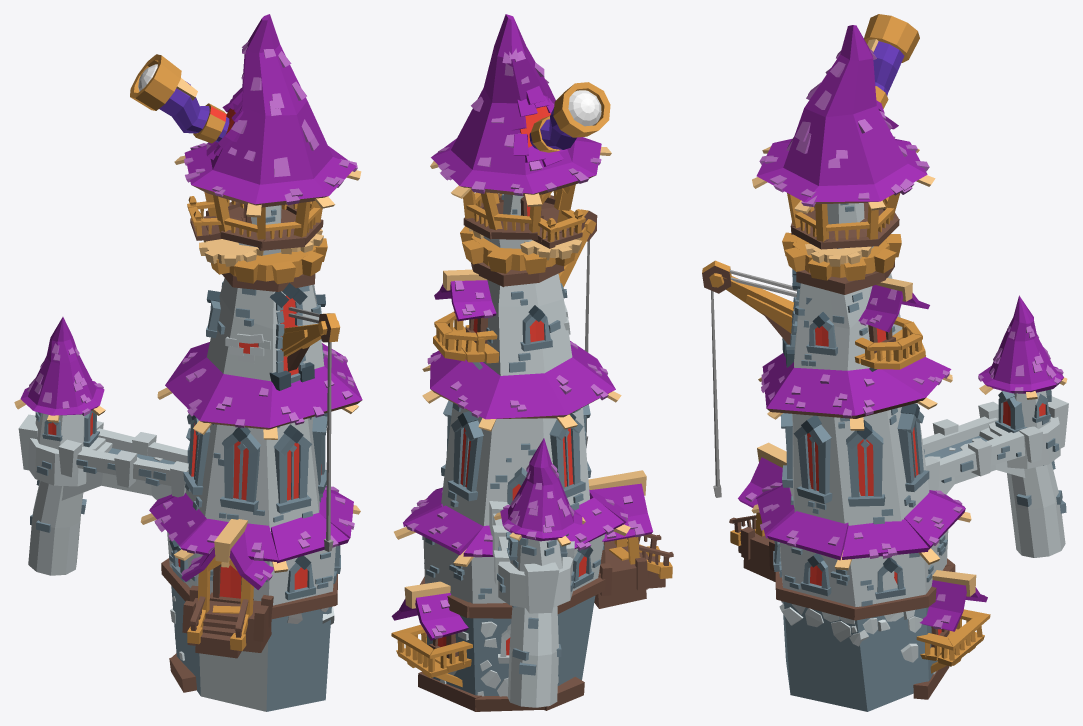
Rendered from Wizrd Tower.glb.
The picture shows the model from 3 angles, left to right: view 1: azimuth 30°, elevation 25°; view 2: azimuth 150°, elevation 25°; view 3: azimuth 270°, elevation 25°; orthographic projection.
Parts seen in each view (by area): view 1: group521495168, group1530056699, group26607304, group1230563115, group1447656051, group1619270200, group1214025446, group1177017401, group915406373, group897295777, group542108436, group1419080965 (+20 smaller); view 2: group521495168, group1530056699, group26607304, group1214025446, group1619270200, group1230563115, group1447656051, group818003635, group1139100112, group458746419, group542108436, group524548519 (+22 smaller); view 3: group1530056699, group521495168, group26607304, group1214025446, group1619270200, group1447656051, group791884759, group1230563115, group583845613, group2108161499, group1698596083, group818003635 (+25 smaller).
Boxes of the visible parts, x1,y1,x2,y2 form: group521495168: [174, 14, 361, 255]; group1530056699: [167, 417, 335, 711]; group26607304: [165, 278, 362, 429]; group1230563115: [130, 54, 229, 143]; group1447656051: [199, 229, 327, 284]; group1619270200: [14, 317, 105, 422]; group1214025446: [28, 481, 83, 575]; group1177017401: [58, 439, 188, 497]; group915406373: [220, 427, 260, 512]; group897295777: [274, 424, 312, 512]; group542108436: [181, 519, 273, 589]; group1419080965: [270, 513, 349, 563]; group521495168: [430, 14, 611, 248]; group1530056699: [423, 403, 604, 695]; group26607304: [430, 273, 615, 419]; group1214025446: [507, 606, 558, 707]; group1619270200: [494, 438, 585, 546]; group1230563115: [529, 82, 610, 152]; group1447656051: [460, 226, 582, 274]; group818003635: [391, 581, 468, 640]; group1139100112: [447, 411, 483, 501]; group458746419: [433, 311, 499, 369]; group542108436: [588, 470, 652, 542]; group524548519: [434, 269, 496, 321]; group1530056699: [779, 403, 948, 711]; group521495168: [752, 25, 935, 248]; group26607304: [762, 273, 951, 418]; group1214025446: [1007, 462, 1065, 557]; group1619270200: [978, 295, 1067, 399]; group1447656051: [782, 232, 901, 281]; group791884759: [925, 426, 1042, 490]; group1230563115: [864, 14, 919, 108]; group583845613: [846, 420, 885, 506]; group2108161499: [793, 415, 832, 503]; group1698596083: [842, 519, 928, 559]; group818003635: [920, 570, 987, 631].
Size of the model in its own units: 2.16 by 5.65 by 2.85.
